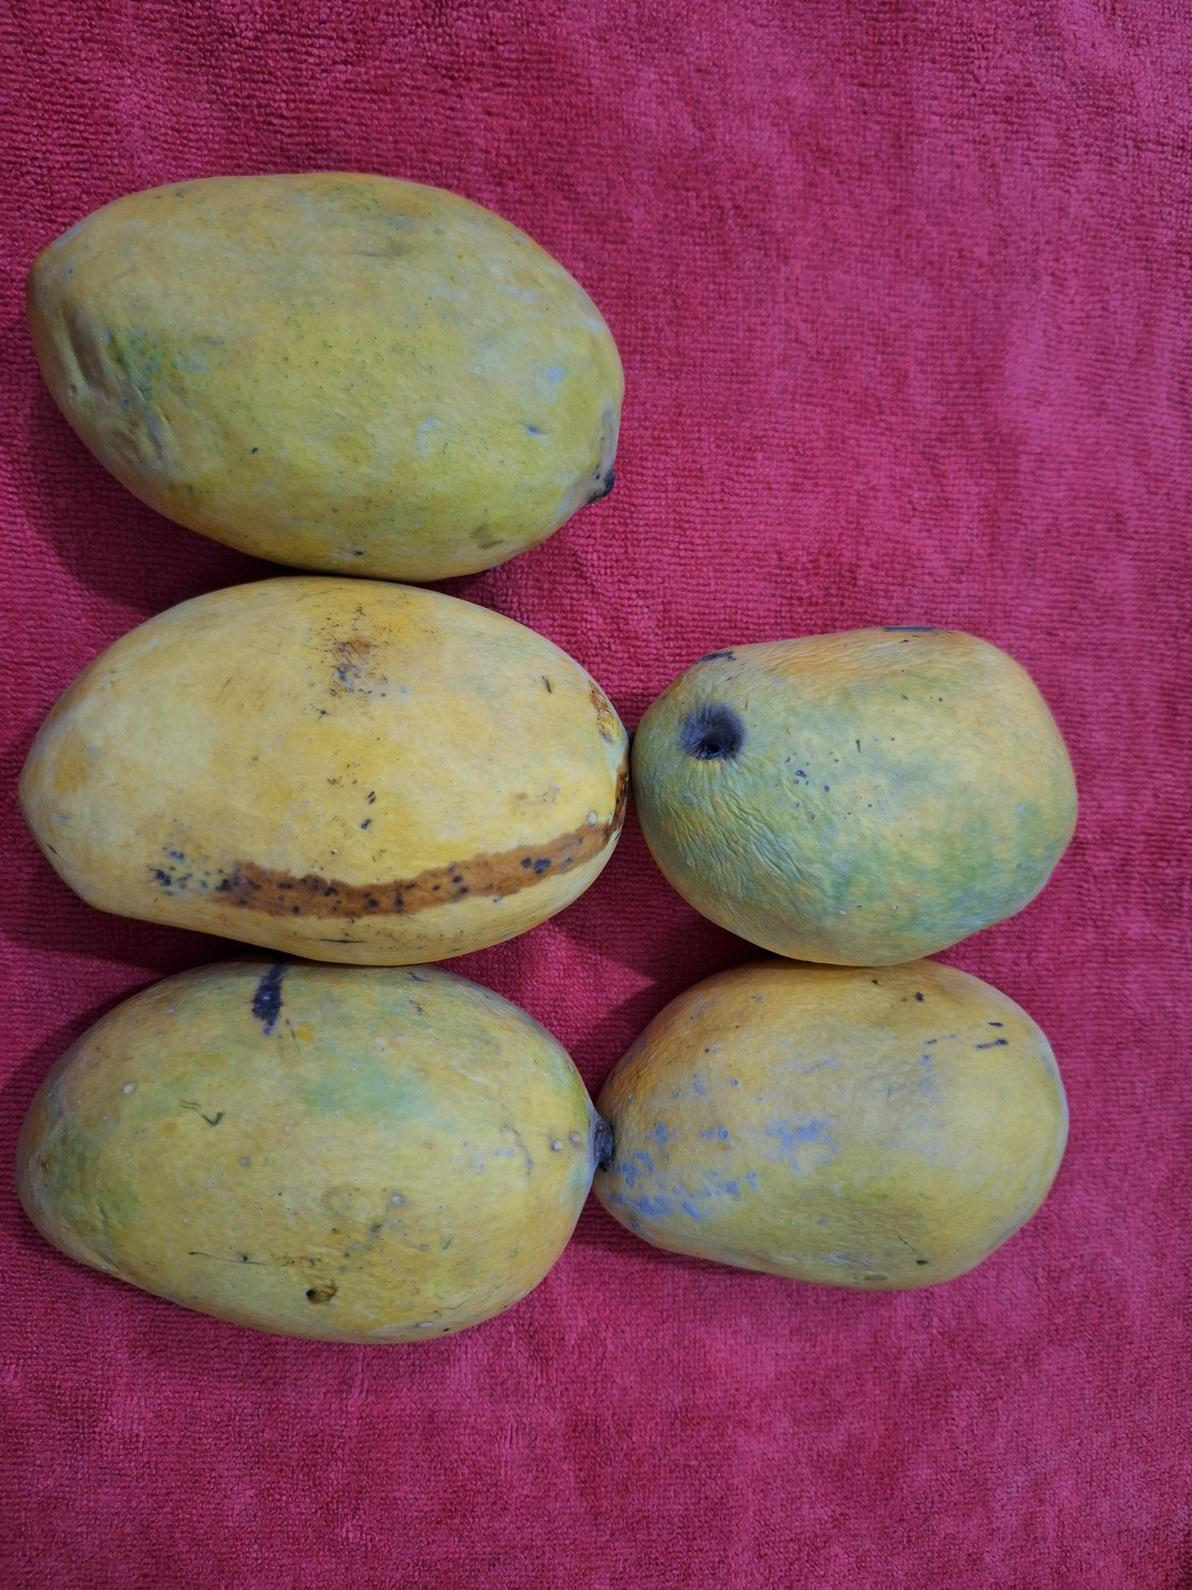mango: (24, 168, 626, 581), (16, 573, 631, 965), (14, 957, 611, 1345), (592, 957, 1069, 1292), (630, 623, 1079, 967)
